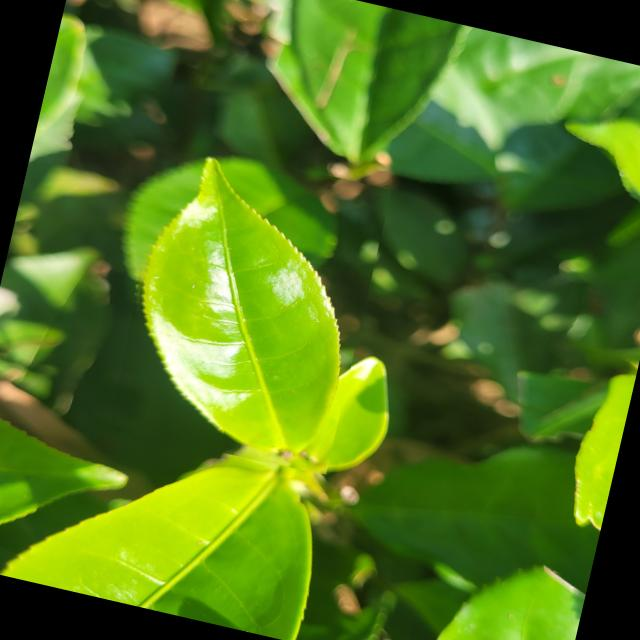Catagory A(1-2 days): (98, 138, 392, 480)
